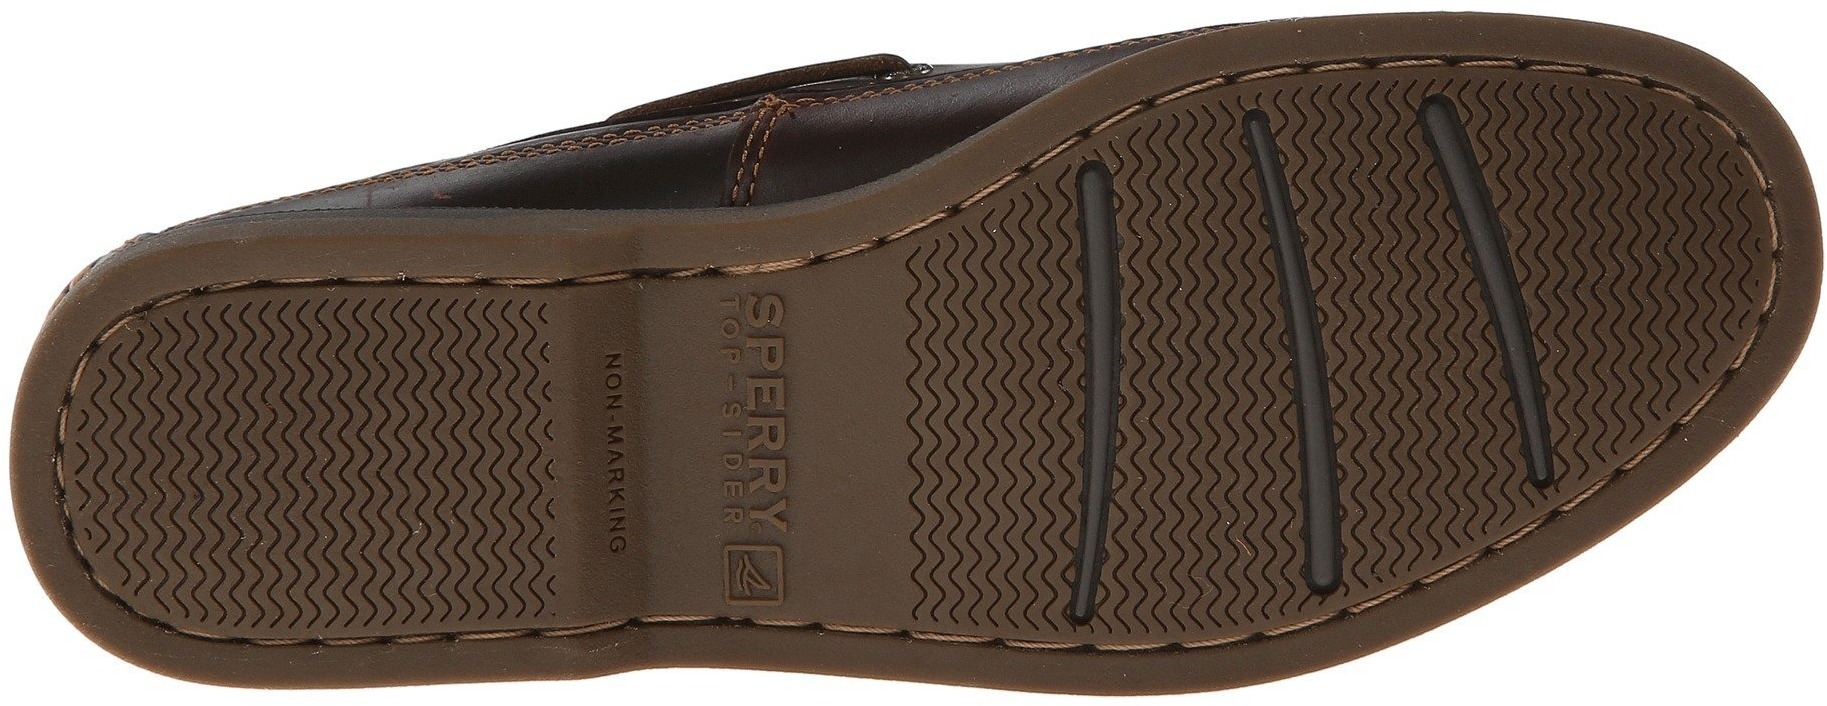chevron: (323, 319, 562, 548), (1508, 125, 1735, 356), (94, 345, 324, 569), (894, 271, 1089, 442), (1115, 442, 1291, 624), (1302, 219, 1479, 390), (900, 454, 1078, 624), (1119, 198, 1277, 353), (1343, 397, 1498, 556)
exclude: (569, 129, 912, 691)
text: (594, 345, 791, 539), (717, 275, 791, 353)
